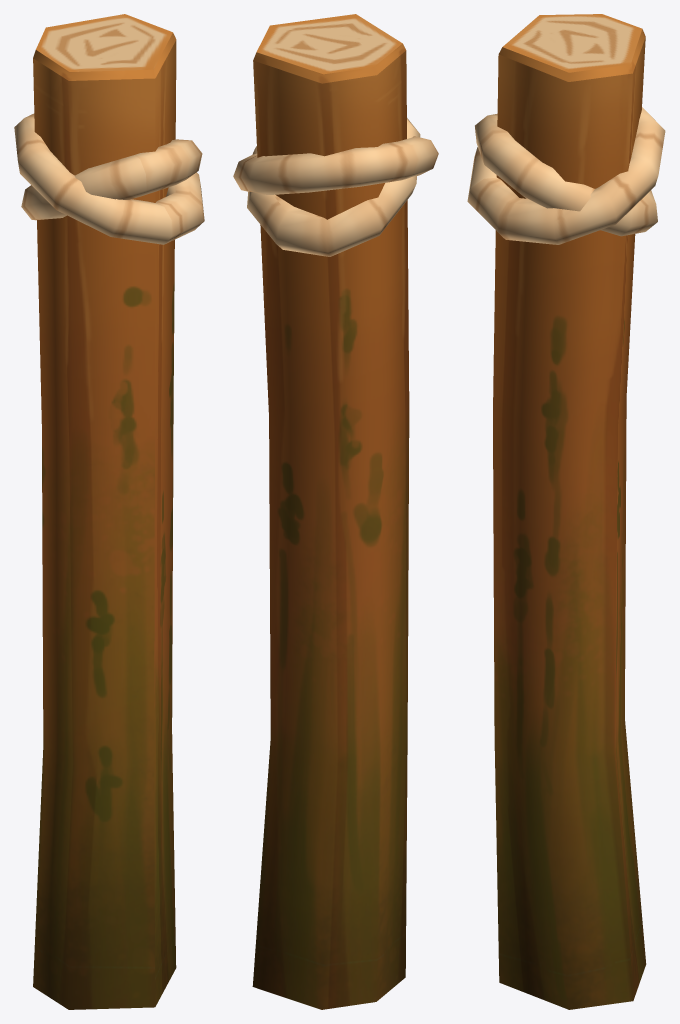
Rendered from port_post2.fbx.
The picture shows the model from 3 angles, left to right: view 1: azimuth 30°, elevation 25°; view 2: azimuth 150°, elevation 25°; view 3: azimuth 270°, elevation 25°; orthographic projection.
Parts seen in each view (by area): view 1: Poste2; view 2: Poste2; view 3: Poste2.
Part boxes in pixels (x1,y1,x2,y2): Poste2: [14, 14, 204, 1009]; Poste2: [233, 14, 438, 1009]; Poste2: [467, 14, 665, 1009].
Size of the model in its own units: 428 by 2226 by 427.
